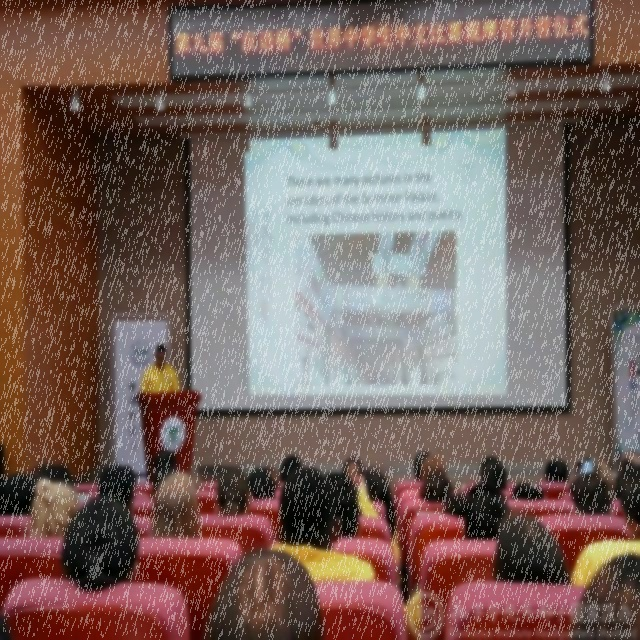pessoa: (268, 465, 378, 583), (202, 546, 326, 638), (58, 492, 143, 596), (493, 511, 574, 586), (574, 552, 639, 638), (148, 466, 202, 540), (461, 478, 512, 540), (28, 476, 79, 538), (362, 466, 399, 541), (324, 471, 364, 539), (322, 469, 360, 536), (566, 469, 620, 516), (138, 341, 182, 395), (96, 462, 138, 516), (214, 465, 254, 516), (272, 452, 304, 506), (0, 471, 36, 516), (611, 450, 639, 500), (150, 446, 179, 489), (32, 458, 74, 486), (418, 472, 455, 503), (246, 467, 276, 502), (480, 458, 510, 492), (593, 457, 617, 499), (510, 477, 544, 504), (594, 458, 616, 499), (419, 451, 448, 482), (436, 491, 468, 518), (542, 457, 569, 484), (148, 468, 174, 494), (340, 454, 364, 481), (413, 449, 432, 482), (260, 462, 280, 488), (0, 602, 13, 638), (613, 471, 627, 501), (477, 452, 485, 483), (484, 454, 502, 464)
